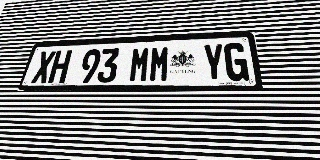3: (96, 48, 120, 83)
9: (78, 49, 102, 83)
G: (224, 42, 249, 81)
H: (47, 50, 72, 83)
M: (128, 47, 151, 82), (148, 46, 170, 82)
X: (31, 51, 56, 84)
Y: (202, 43, 226, 81)
